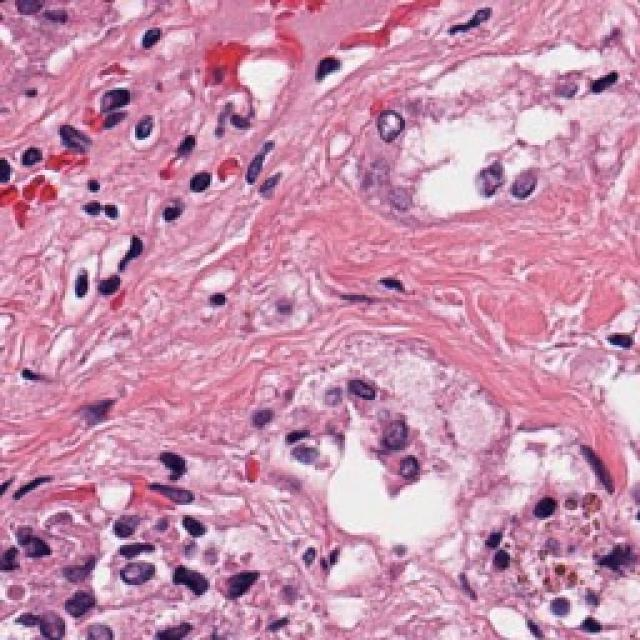normal: (349, 68, 434, 172), (143, 550, 225, 623), (483, 139, 553, 224), (216, 548, 281, 608), (60, 573, 110, 625)
